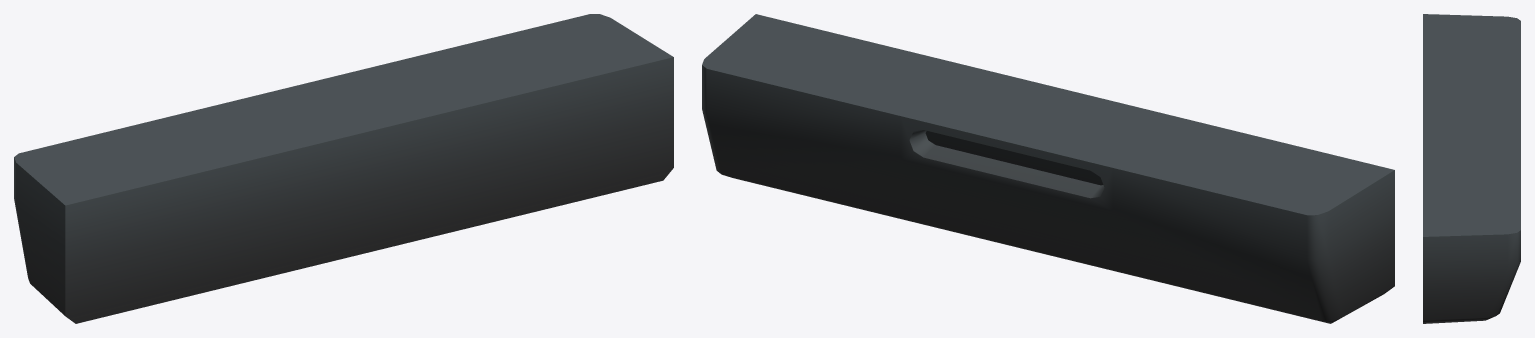
Rendered from Car_05_RearBumper_Simple.fbx.
The picture shows the model from 3 angles, left to right: view 1: azimuth 30°, elevation 25°; view 2: azimuth 150°, elevation 25°; view 3: azimuth 270°, elevation 25°; orthographic projection. The views are drawn at different scales.
Parts seen in each view (by area): view 1: Car_05_RearBumper_Simple; view 2: Car_05_RearBumper_Simple; view 3: Car_05_RearBumper_Simple.
Part boxes in pixels (left/top/right/bottom): Car_05_RearBumper_Simple: left=14, top=14, right=673, bottom=323; Car_05_RearBumper_Simple: left=702, top=14, right=1394, bottom=323; Car_05_RearBumper_Simple: left=1423, top=14, right=1520, bottom=323.
Size of the model in its own units: 192 by 35.66 by 36.54.
